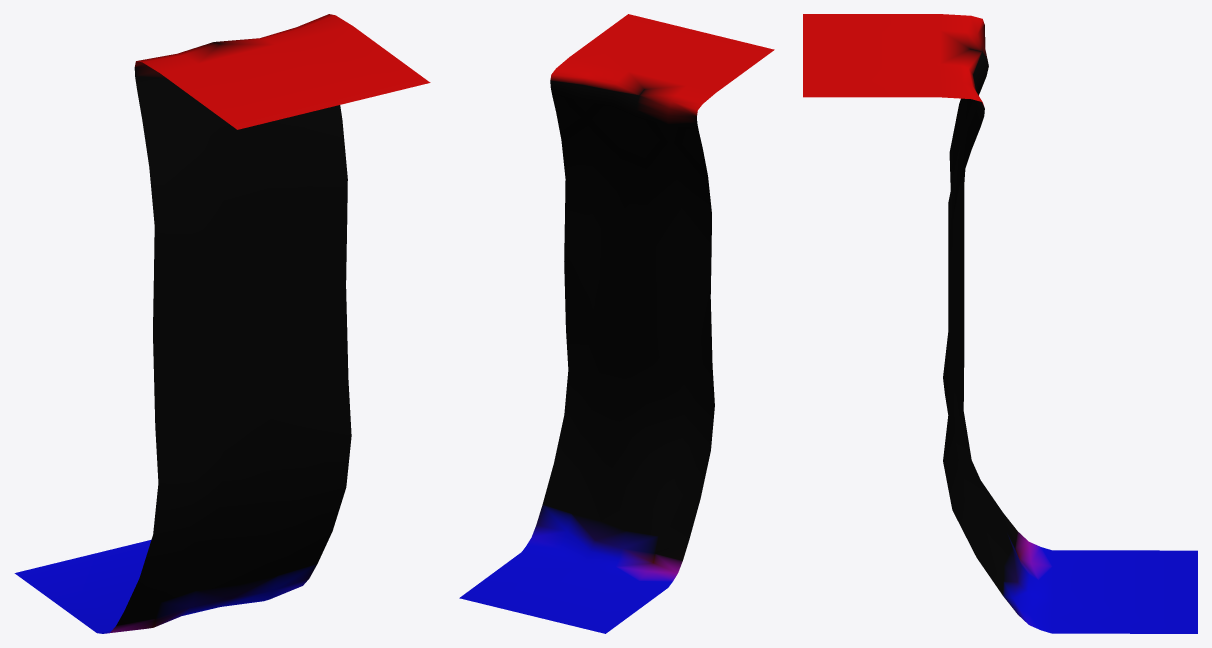
Rendered from GroundCliff00A 3M for Water Background.fbx.
3 renders of one model, left to right at view 1: azimuth 30°, elevation 25°; view 2: azimuth 150°, elevation 25°; view 3: azimuth 270°, elevation 25°, orthographic. The views are drawn at different scales.
Visible parts, largest first — view 1: GroundCliff00A 3M for Water Background; view 2: GroundCliff00A 3M for Water Background; view 3: GroundCliff00A 3M for Water Background.
Part boxes in pixels (box(x1,y1,x2,y2)): GroundCliff00A 3M for Water Background: box(14, 14, 430, 633); GroundCliff00A 3M for Water Background: box(459, 14, 774, 633); GroundCliff00A 3M for Water Background: box(803, 14, 1197, 633).
Size of the model in its own units: 1 by 3 by 2.
